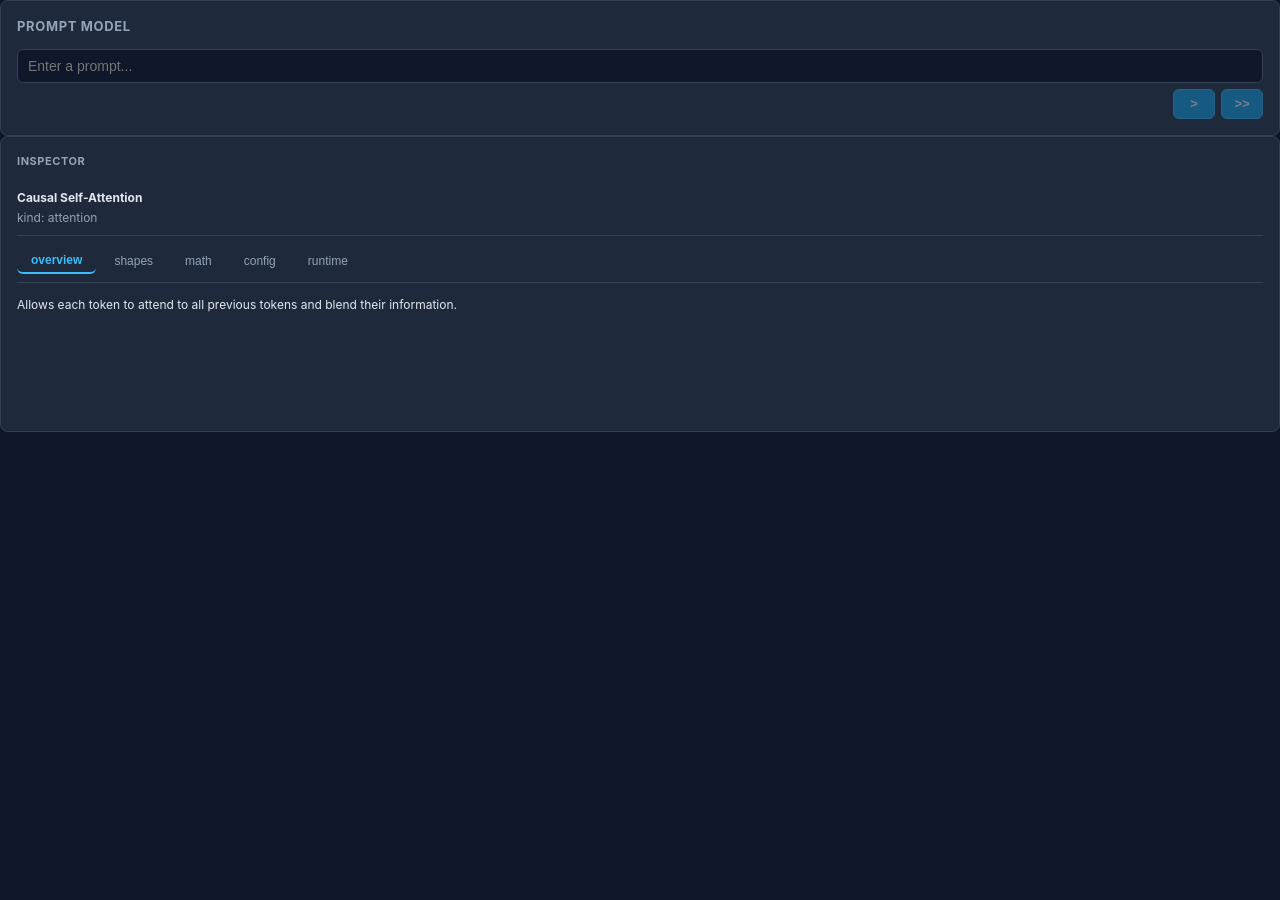
PausePrompt + Inspector integration › attention node: Inspector's heatmap reflects the fresh snapshot immediately after one Step click
Click the button "runtime": x=328, y=261 [294,248,362,274]
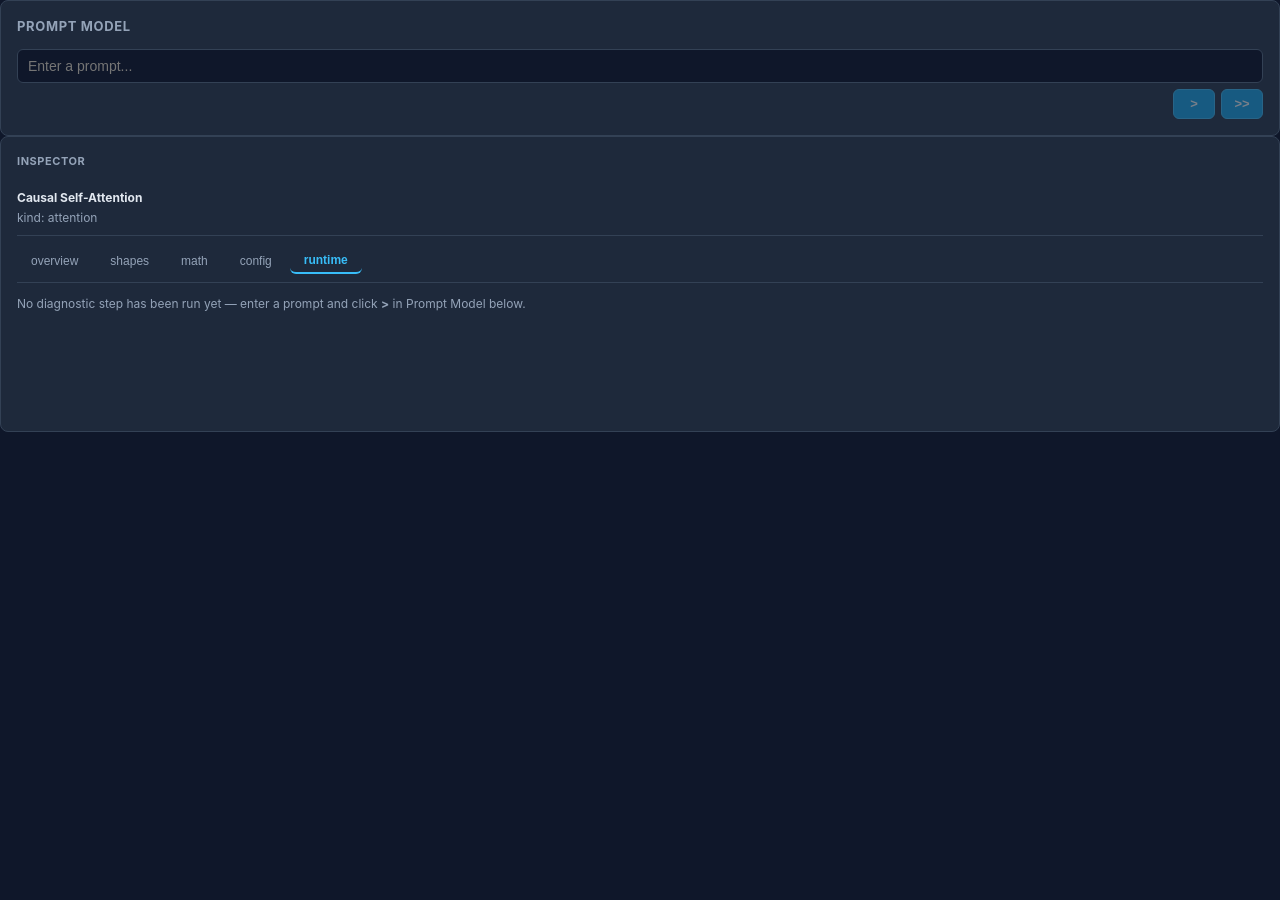
In the field with placeholder "Enter a prompt...": x=640, y=66 [17,48,1263,82], type "hello"
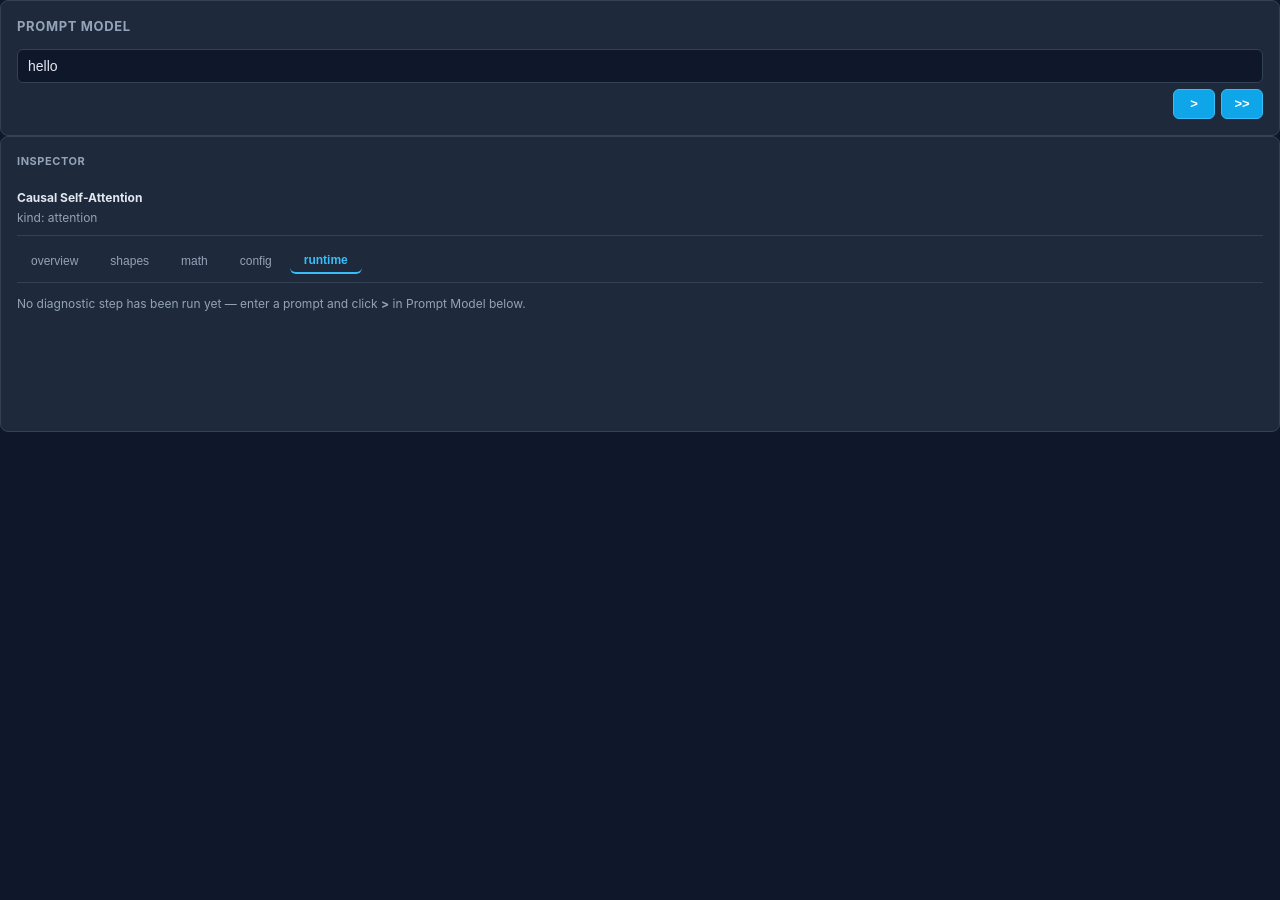
Click the button ">": x=1194, y=104 [1173,88,1215,118]
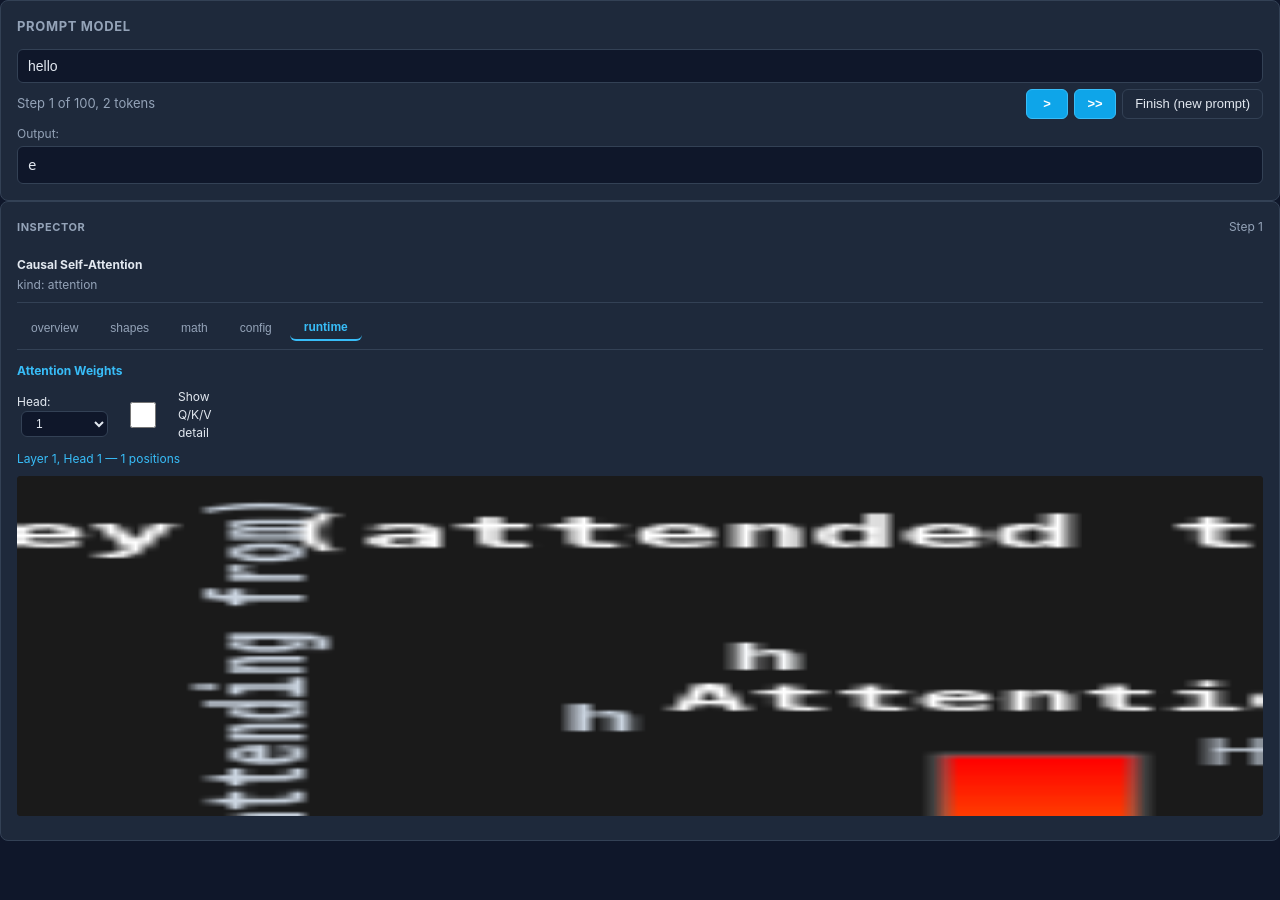
Result: the text "Layer 1, Head 1 — 1 positions" is shown at [17,451,180,466]
